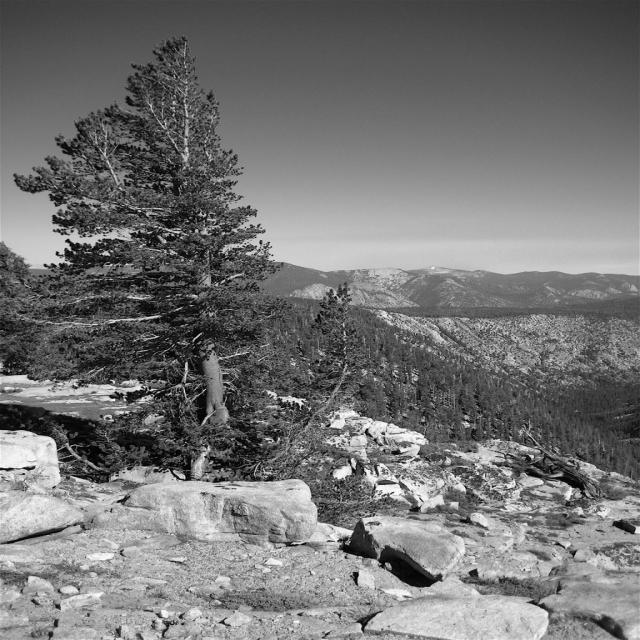Abies: (13, 28, 375, 525)
